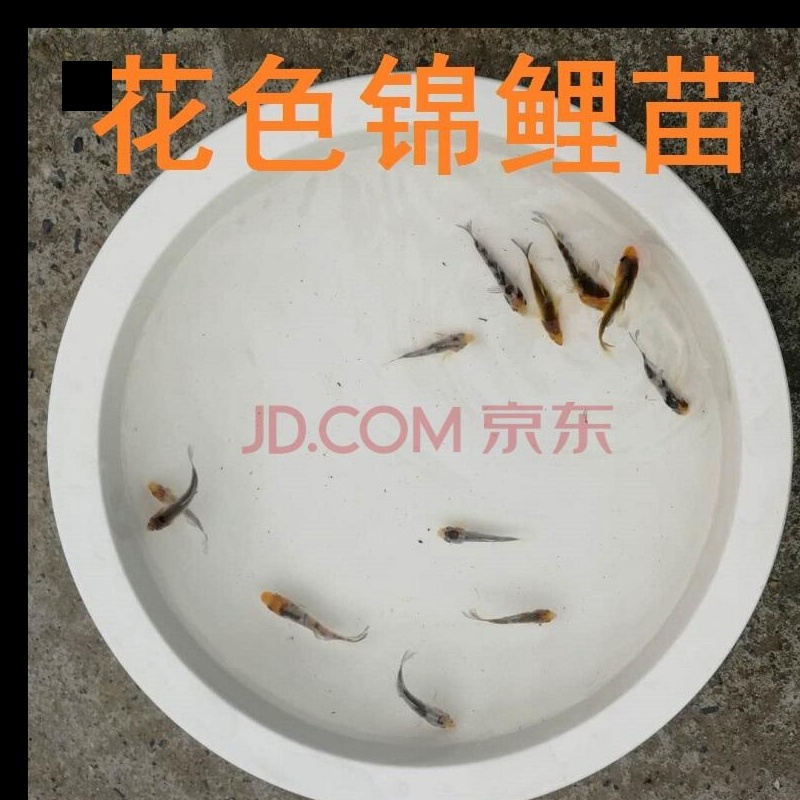fry: (260, 590, 374, 665), (381, 661, 470, 742), (632, 351, 705, 441), (461, 590, 569, 647), (549, 225, 609, 326), (467, 226, 530, 322), (397, 319, 489, 378), (599, 228, 637, 357), (527, 252, 568, 354), (433, 516, 527, 551), (136, 475, 191, 508), (142, 501, 180, 536)
